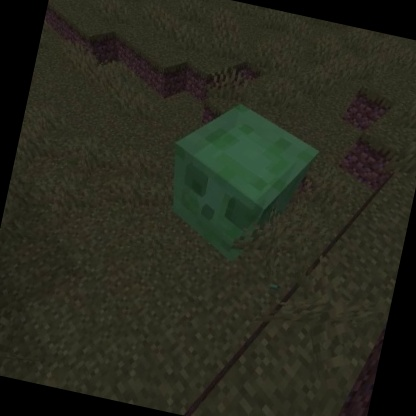slime: (150, 88, 329, 279)
